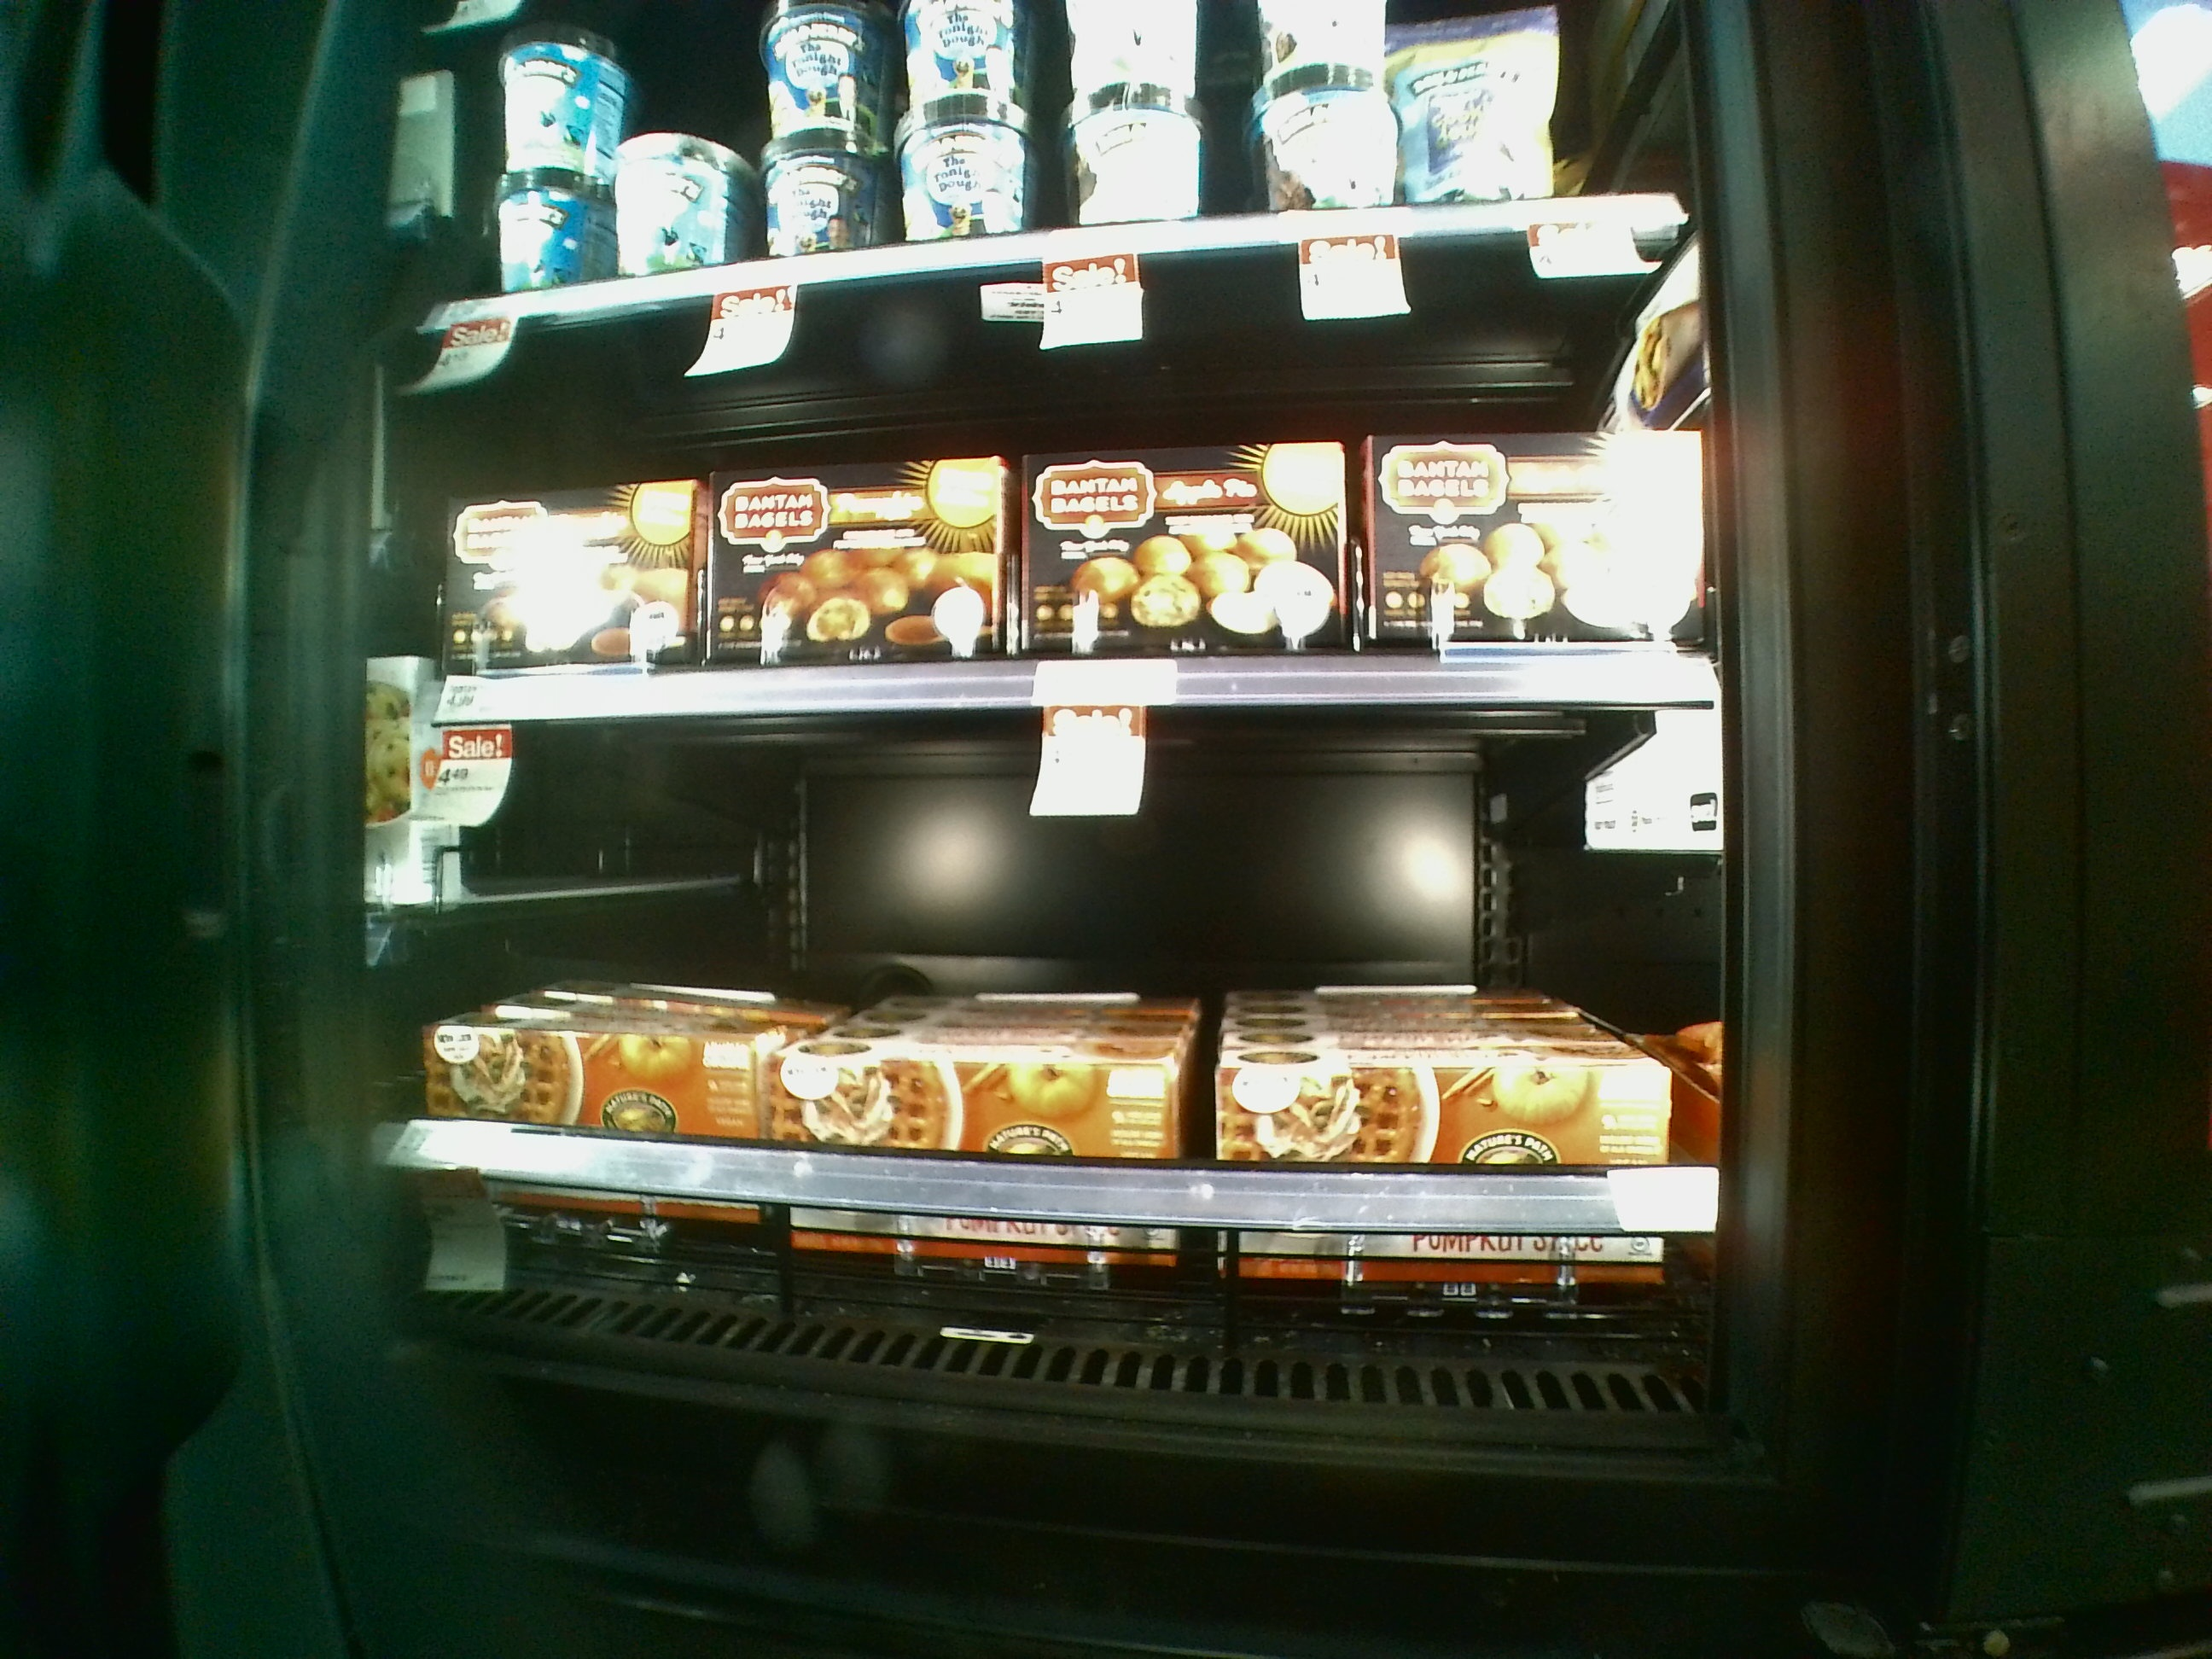shelf: (409, 699, 1719, 1436), (383, 314, 1721, 706)
